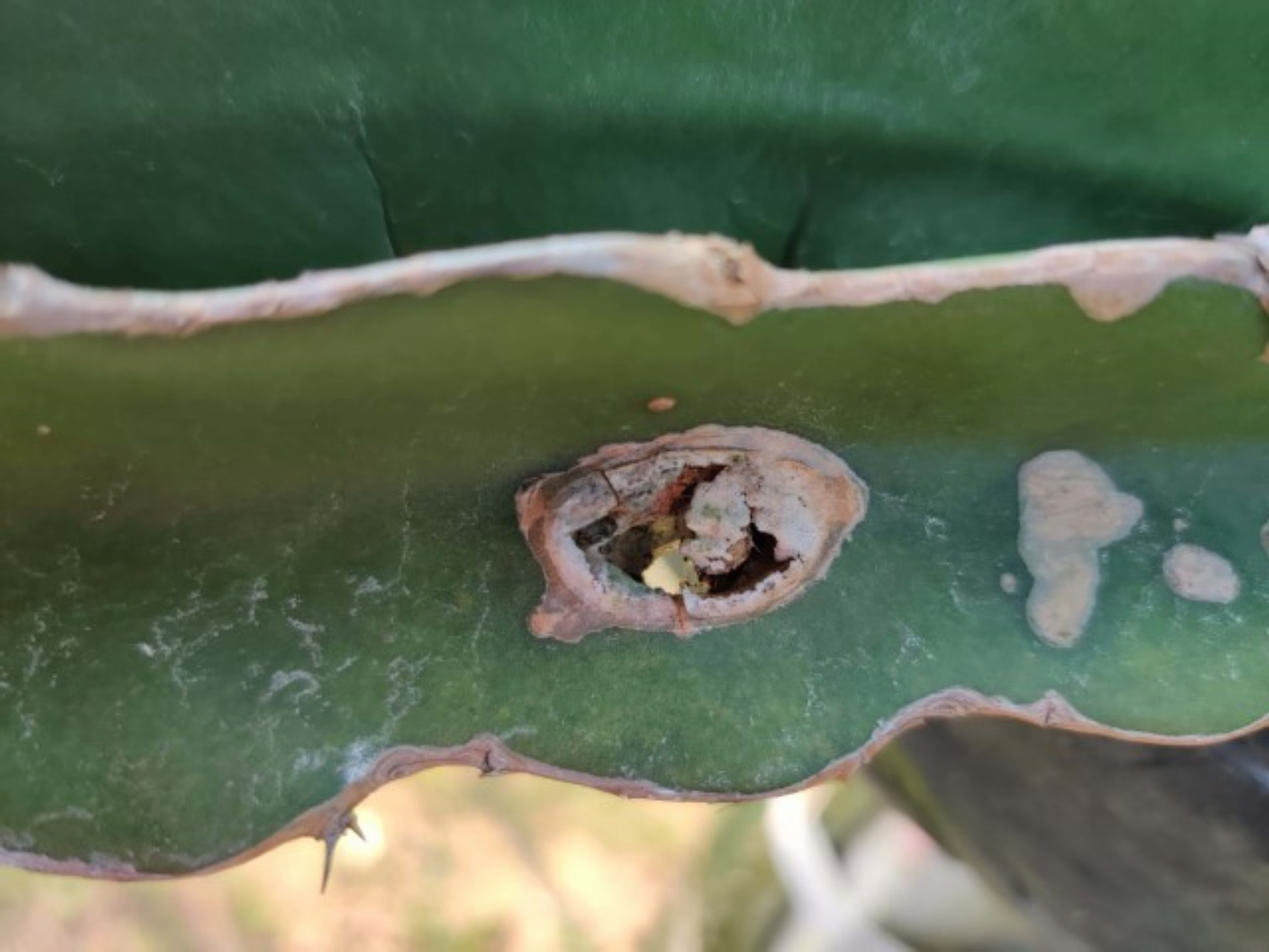stemcanker: (381, 256, 1261, 692)
